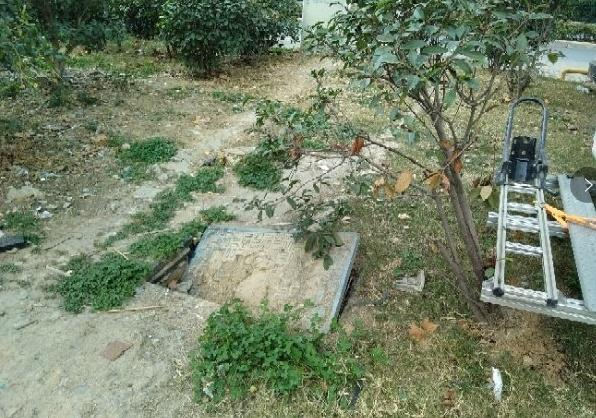wellcover: (140, 221, 373, 339)
